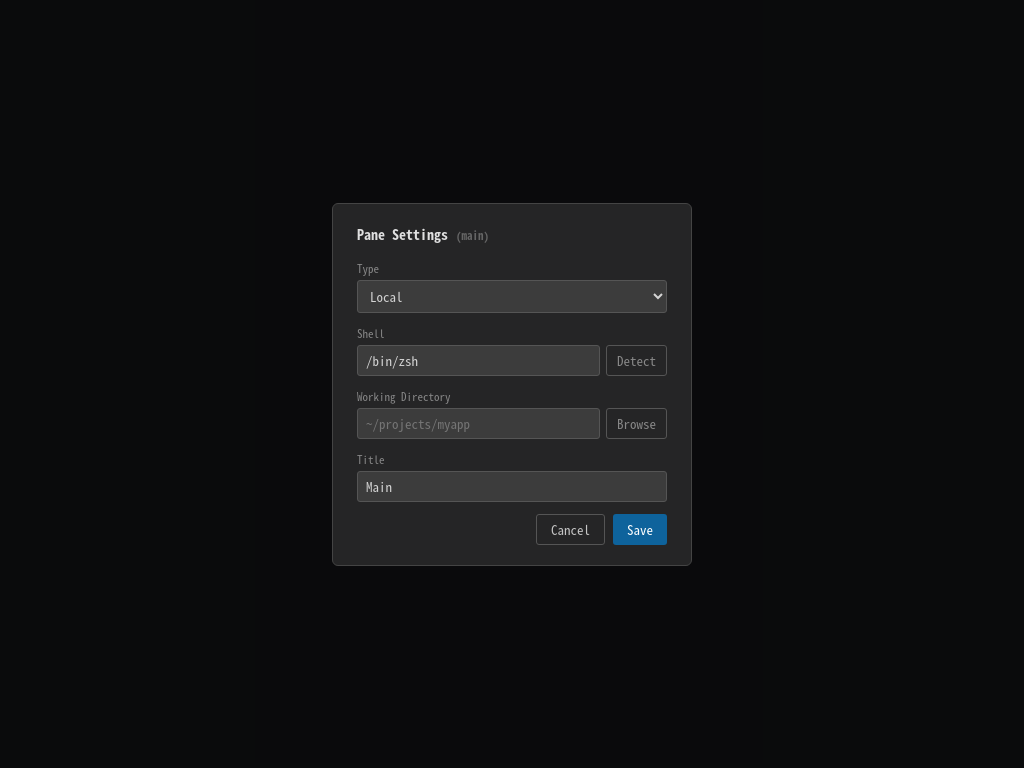
Test: PaneSettingsDialog › loads directories when Browse is clicked and updates cwd when one is selected
Click the button "Browse".
click(636, 423)  # box [606,408,667,438]
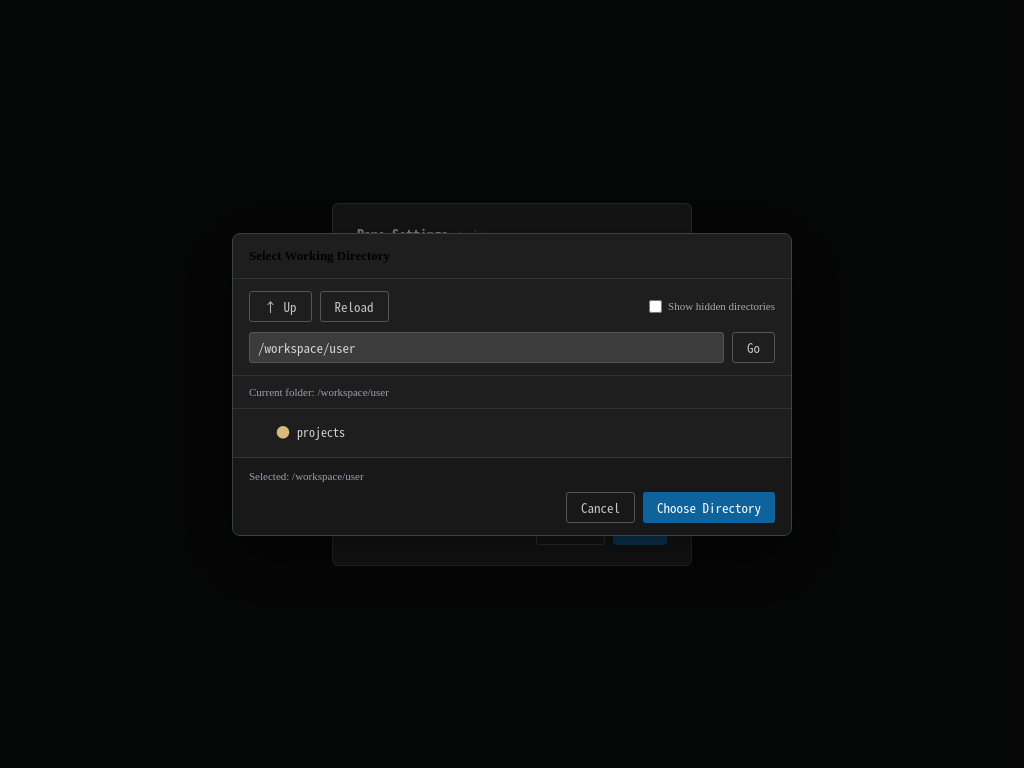
Expected: the dialog named "Directory browser" is shown
Click the button with aria-label "/workspace/user/projects".
click(321, 431)  # box [269,416,779,444]
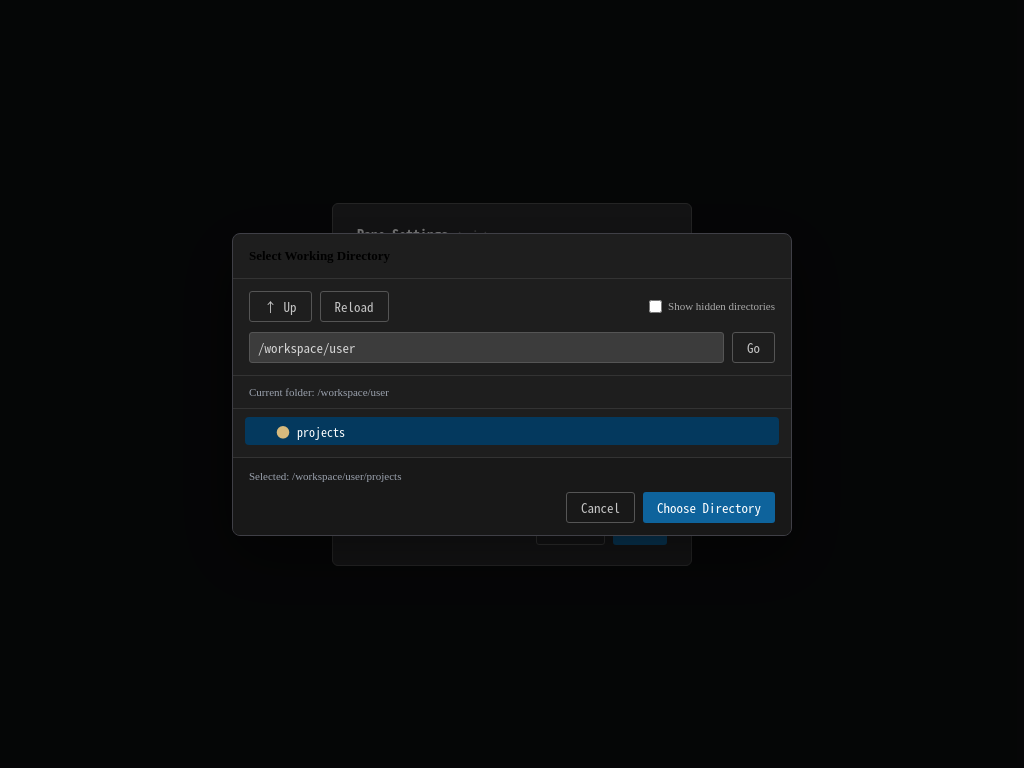
Click the button "Choose Directory".
click(709, 507)  # box [643,492,775,522]
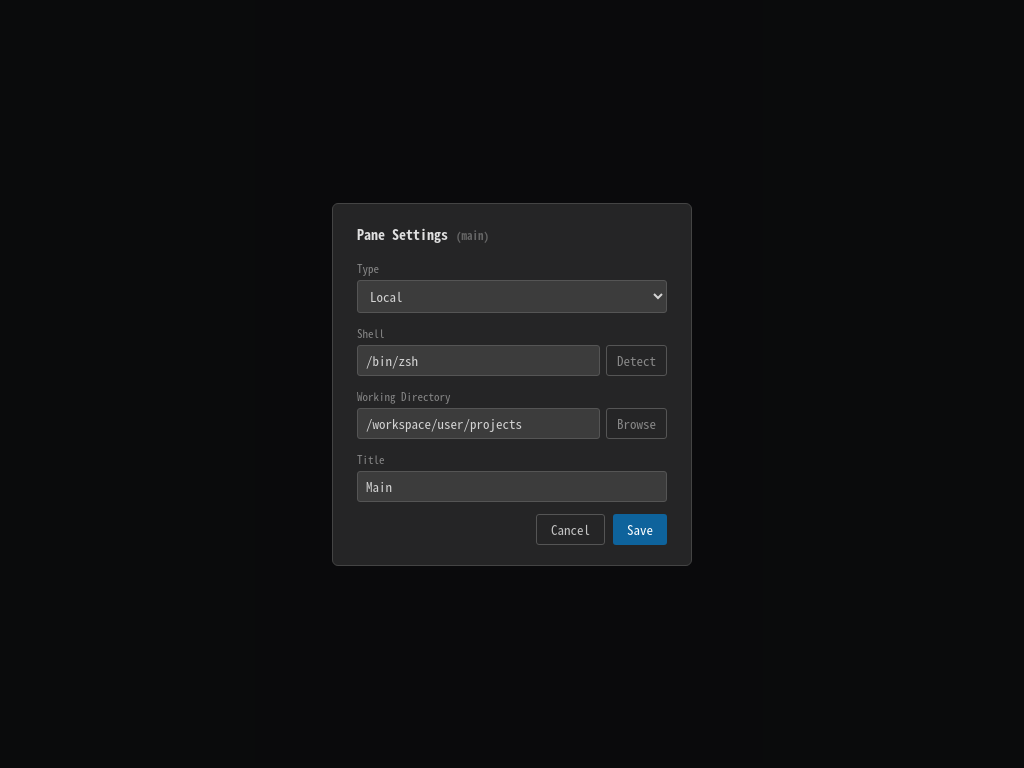
Expected: the field labelled "Working Directory" holds "/workspace/user/projects", [357,408,600,438]
